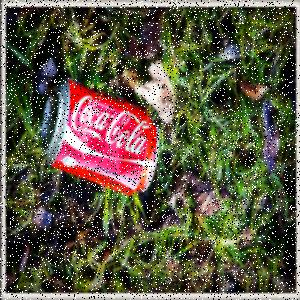Can: (38, 73, 161, 198)
